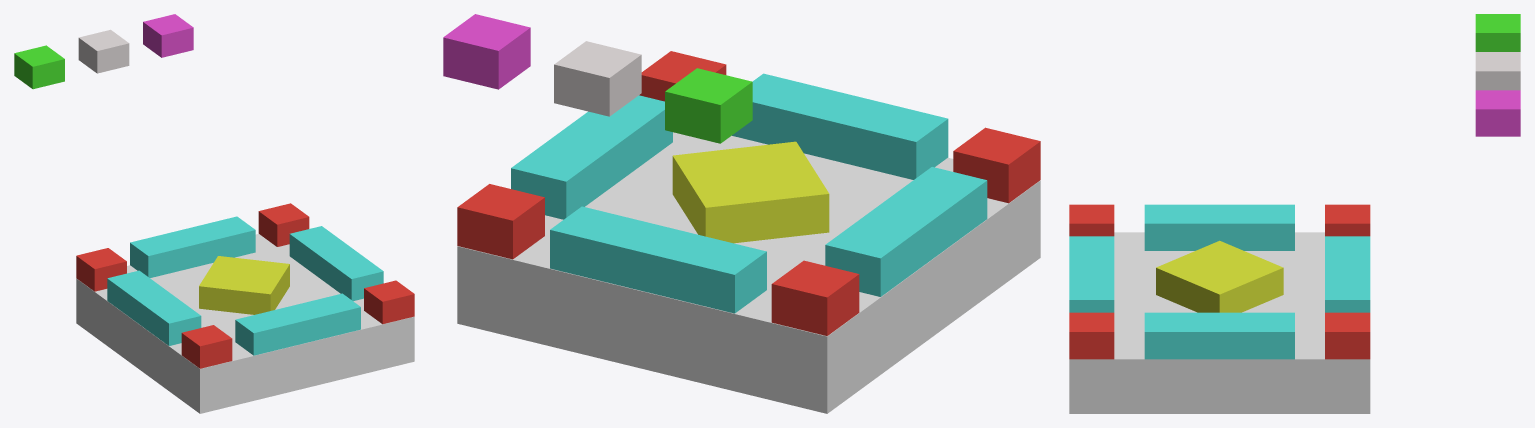
Rendered from vitrail.glb.
3 views of the same model, side by side, from view 1: azimuth 30°, elevation 25°; view 2: azimuth 150°, elevation 25°; view 3: azimuth 270°, elevation 25° (orthographic). The views are drawn at different scales.
Visible parts, largest first — view 1: workbench, rectangleBottom, rectangleTop, losange, rectangleLeft, rectangleRight, white, cubeBottomLeft, cubeBottomRight, green, purple, cubeTopRight (+1 smaller); view 2: workbench, rectangleTop, rectangleBottom, losange, rectangleLeft, rectangleRight, cubeTopLeft, purple, cubeTopRight, green, white, cubeBottomLeft (+1 smaller); view 3: workbench, rectangleRight, rectangleLeft, losange, rectangleBottom, rectangleTop, cubeBottomRight, cubeTopRight, purple, white, green, cubeBottomLeft (+1 smaller).
Part boxes in pixels (x1,y1,x2,y2): workbench: (76, 234, 414, 413); rectangleBottom: (235, 293, 360, 355); rectangleTop: (130, 216, 255, 277); losange: (199, 256, 289, 314); rectangleLeft: (107, 270, 201, 345); rectangleRight: (289, 226, 383, 301); white: (78, 29, 129, 73); cubeBottomLeft: (181, 325, 232, 368); cubeBottomRight: (364, 280, 414, 324); green: (14, 45, 64, 89); purple: (143, 14, 193, 57); cubeTopRight: (258, 203, 309, 246); workbench: (457, 132, 1040, 413); rectangleTop: (550, 206, 766, 313); rectangleBottom: (732, 73, 948, 179); losange: (672, 141, 829, 243); rectangleLeft: (825, 167, 987, 296); rectangleRight: (511, 95, 672, 219); cubeTopLeft: (771, 260, 859, 335); purple: (443, 14, 530, 89); cubeTopRight: (457, 184, 544, 259); green: (665, 68, 752, 143); white: (554, 41, 641, 116); cubeBottomLeft: (953, 127, 1040, 203); workbench: (1069, 232, 1370, 413); rectangleRight: (1144, 312, 1294, 359); rectangleLeft: (1144, 204, 1294, 250); losange: (1156, 240, 1283, 312); rectangleBottom: (1069, 236, 1114, 312); rectangleTop: (1325, 236, 1370, 312); cubeBottomRight: (1069, 312, 1114, 359); cubeTopRight: (1325, 312, 1370, 359); purple: (1475, 90, 1520, 136); white: (1475, 52, 1520, 90); green: (1475, 14, 1520, 51); cubeBottomLeft: (1069, 204, 1114, 236).
Bounding box in the file's own units: 1 × 1 × 1.5.
